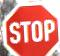Stop sign: (0, 0, 59, 55)
